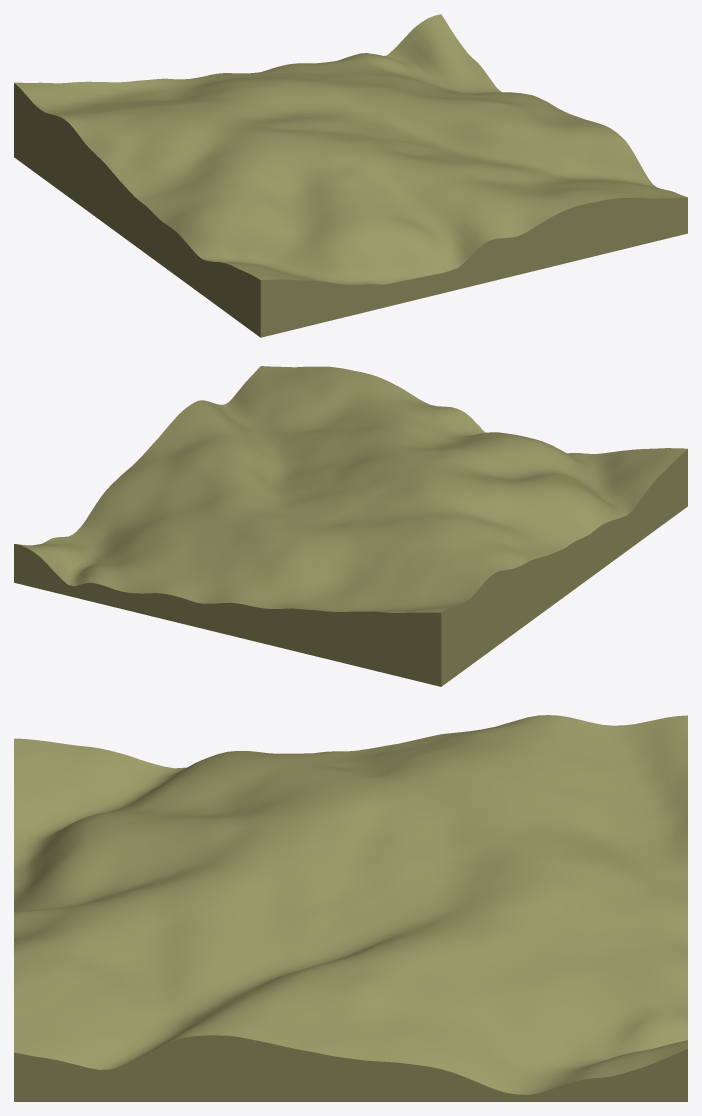
Rendered from Elements_Topography.glb.
3 views of the same model, one above another, from view 1: azimuth 30°, elevation 25°; view 2: azimuth 150°, elevation 25°; view 3: azimuth 270°, elevation 25° (orthographic). The views are drawn at different scales.
Parts seen in each view (by area): view 1: 4130f325-c457-4ea2-bbdb-434c2e9f0c41_mesh; view 2: 4130f325-c457-4ea2-bbdb-434c2e9f0c41_mesh; view 3: 4130f325-c457-4ea2-bbdb-434c2e9f0c41_mesh.
Part boxes in pixels (box(x1,y1,x2,y2)): 4130f325-c457-4ea2-bbdb-434c2e9f0c41_mesh: box(14, 14, 687, 337); 4130f325-c457-4ea2-bbdb-434c2e9f0c41_mesh: box(14, 366, 687, 686); 4130f325-c457-4ea2-bbdb-434c2e9f0c41_mesh: box(14, 715, 687, 1101).
Size of the model in its own units: 865 by 155 by 865.
